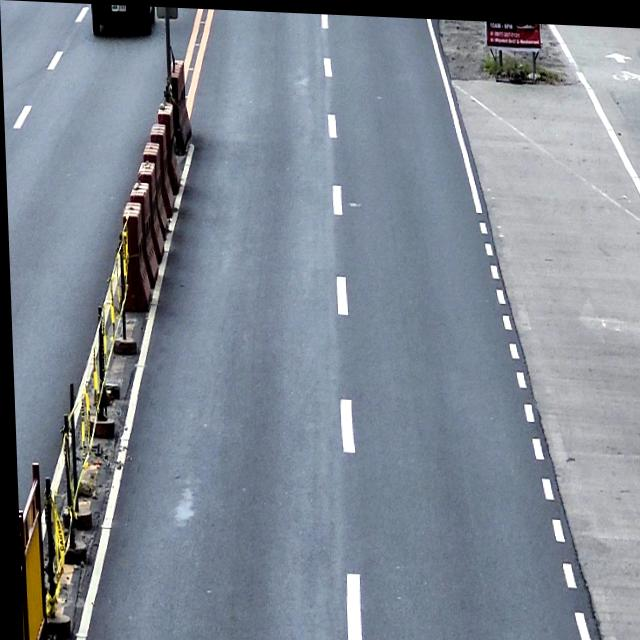Car: (91, 3, 156, 37)
License-Plate: (111, 4, 127, 11)
